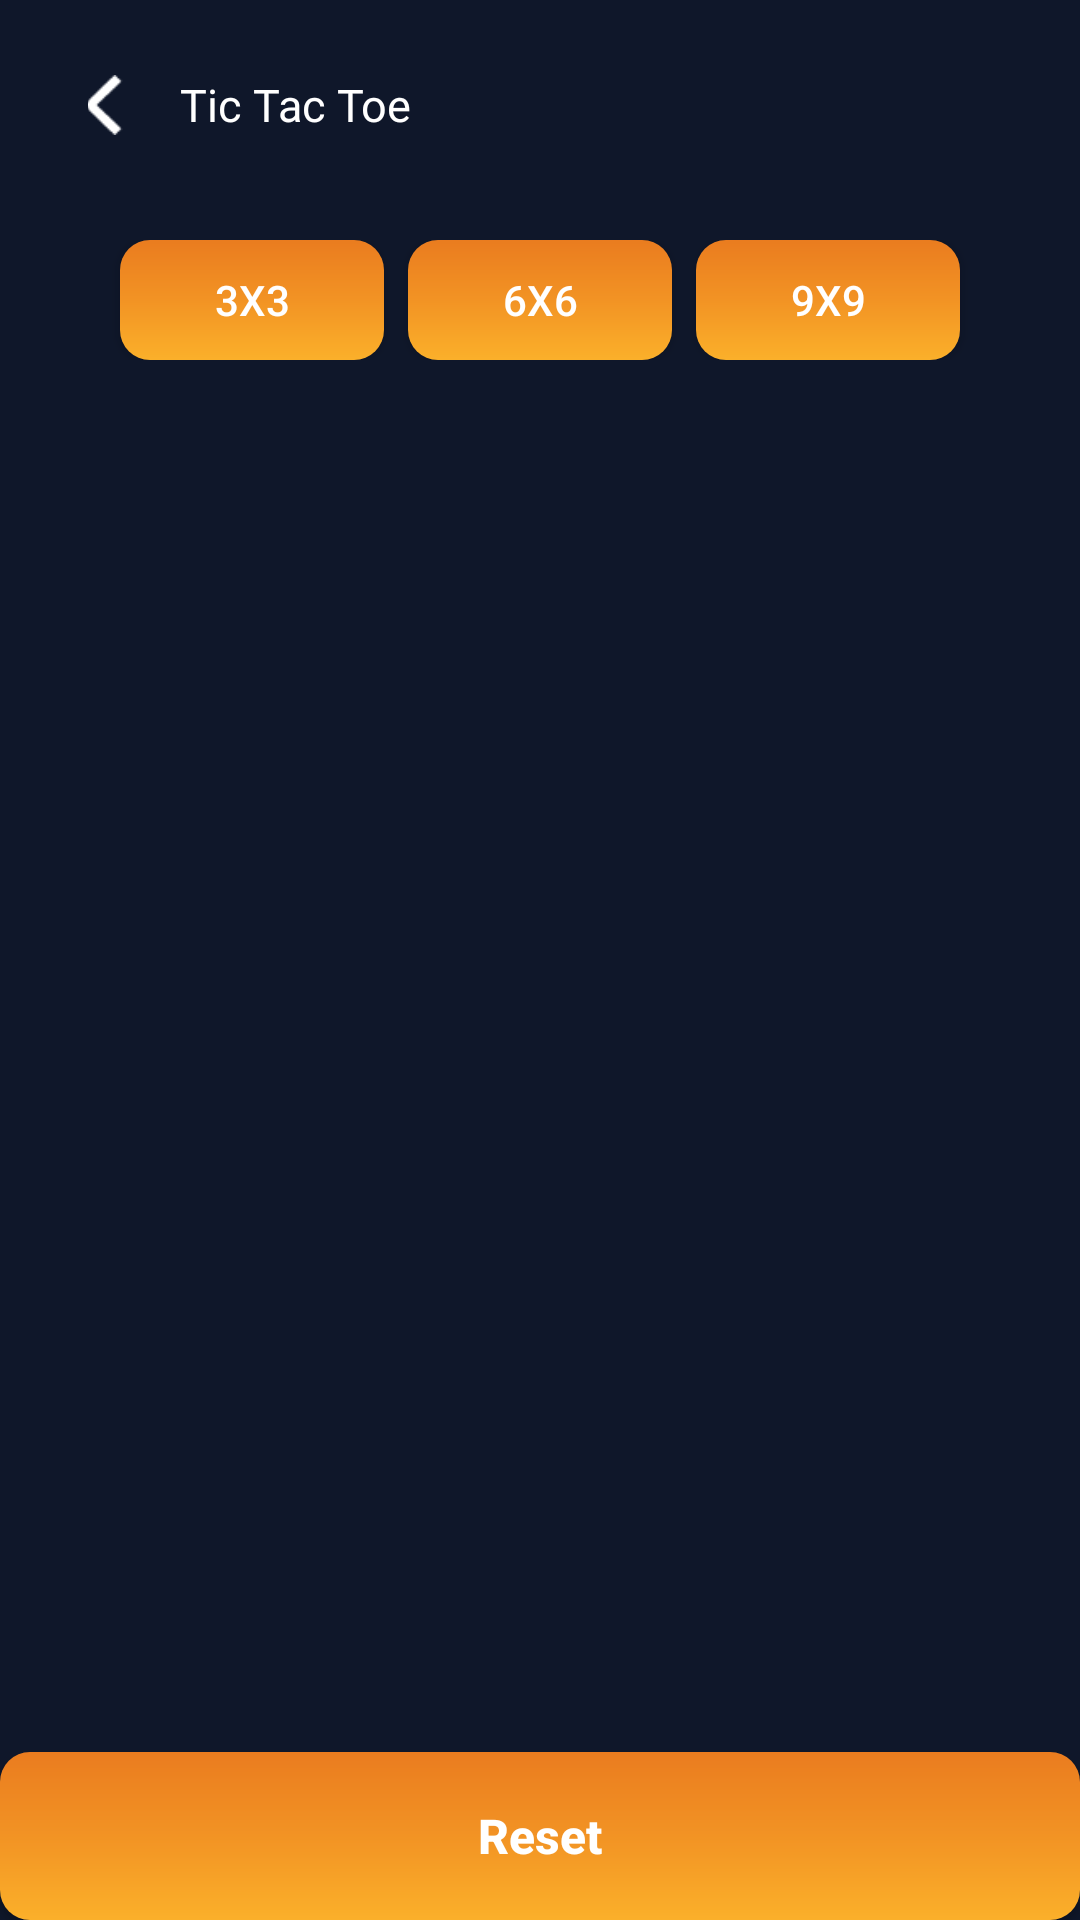

Locate icon controls on the screen. Image size 1080px x 1920px, boxes as (x1, y1, x2, y2).
back: (88, 75, 122, 135)
